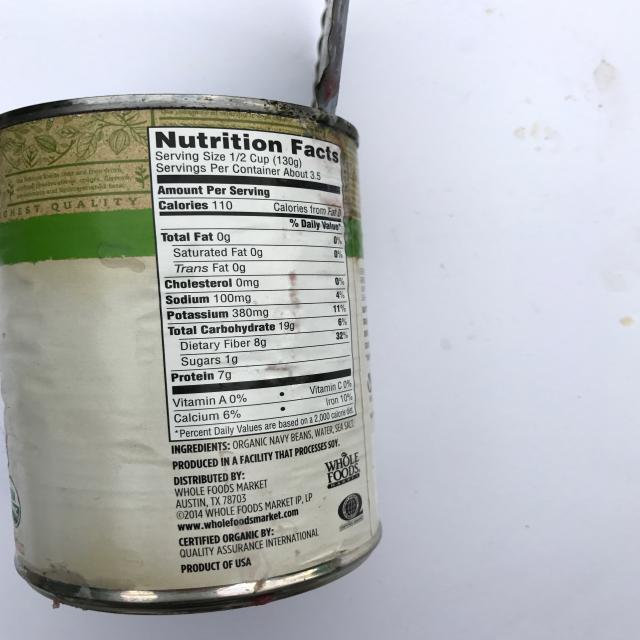metal: (0, 92, 383, 615)
